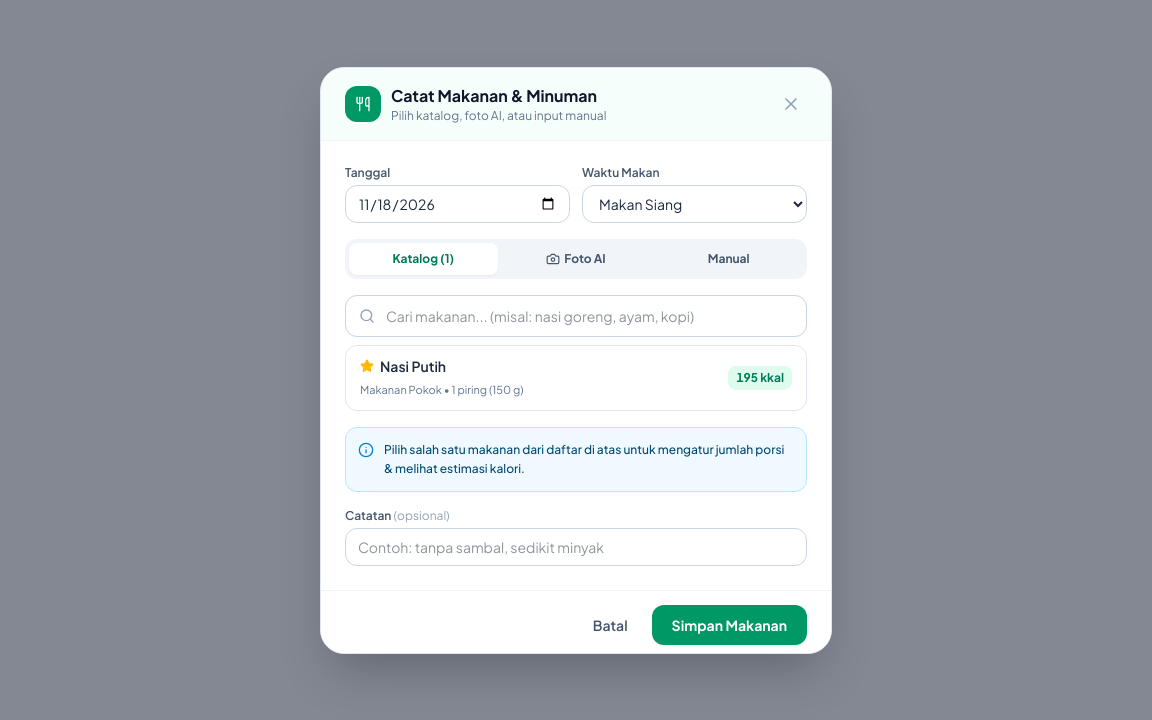
Test: KaloriKu UI flows › auto-calculates 293 kkal in FoodLogModal for Nasi Putih 1,5 piring
Click the text "Nasi Putih". click: (413, 366)
box: [380,356,446,376]
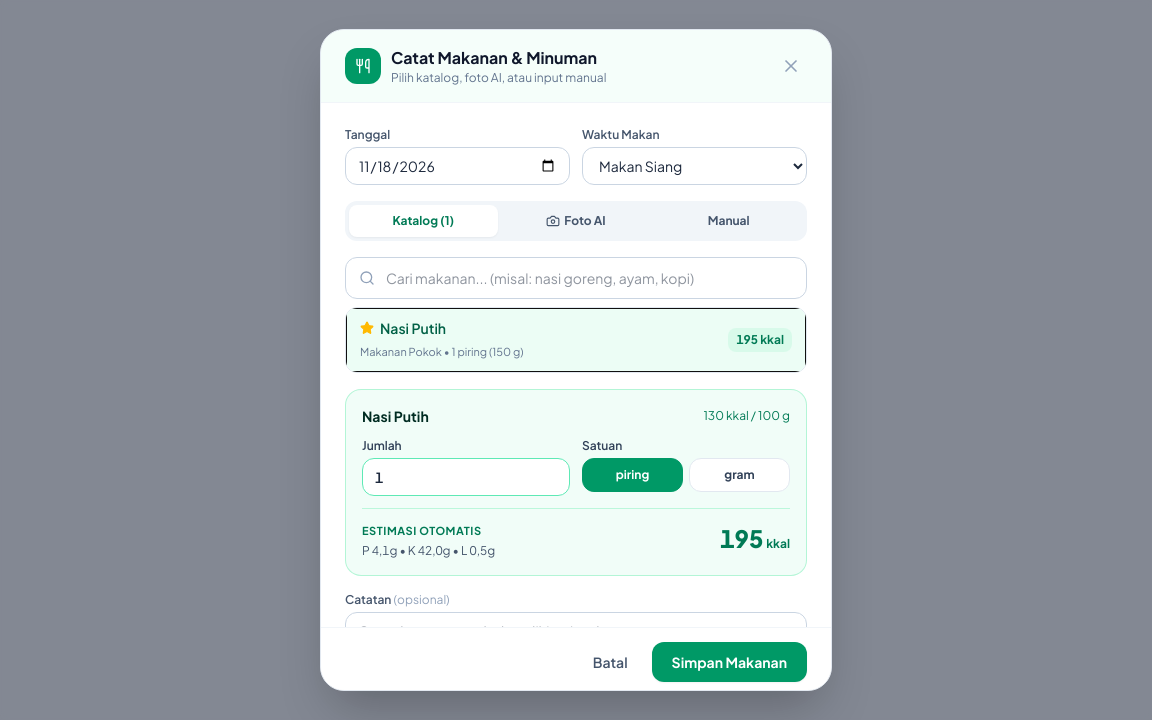
Clear the field labelled "Jumlah". click: (466, 477)
box: [362,458,570,496]
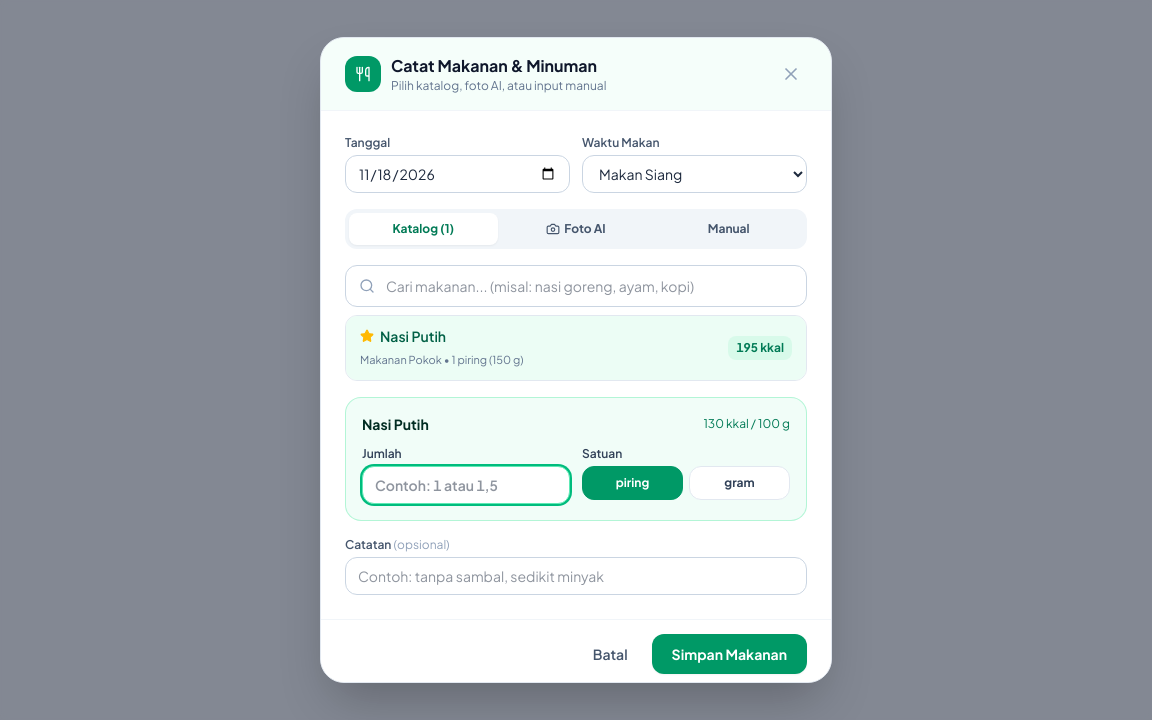
Type "1,5" into the field labelled "Jumlah". click: (466, 485)
box: [362,466,570,504]
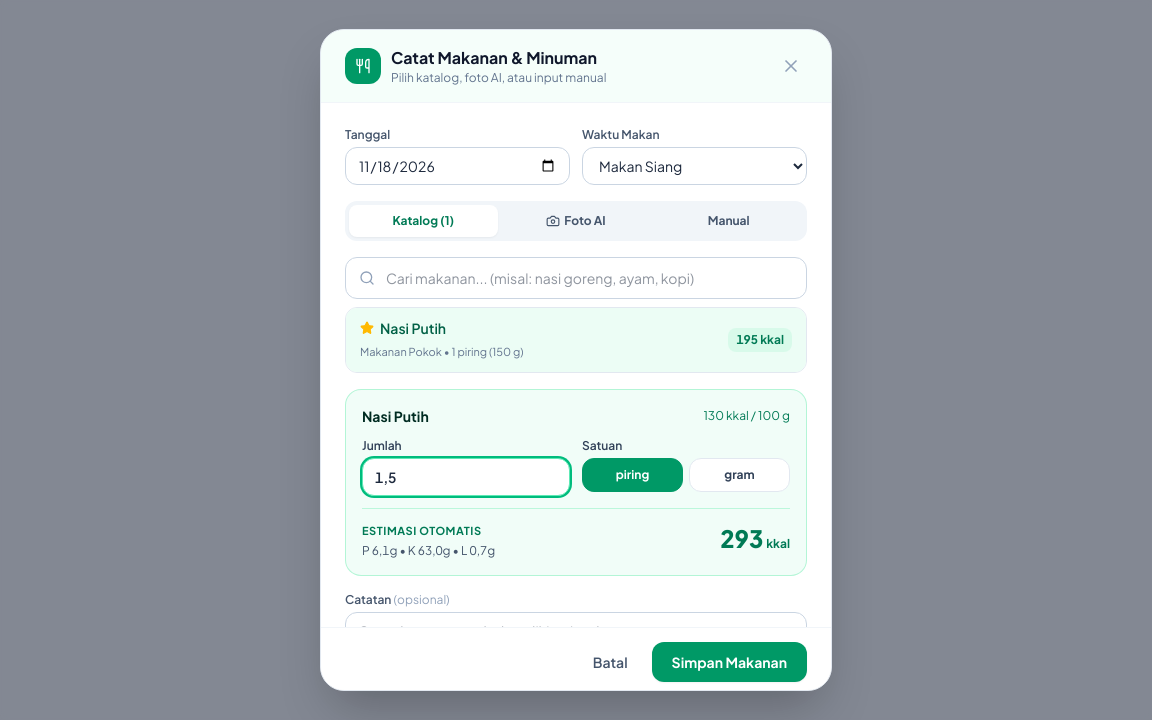
Expected: the text "293" is shown, [720,523,763,553]
